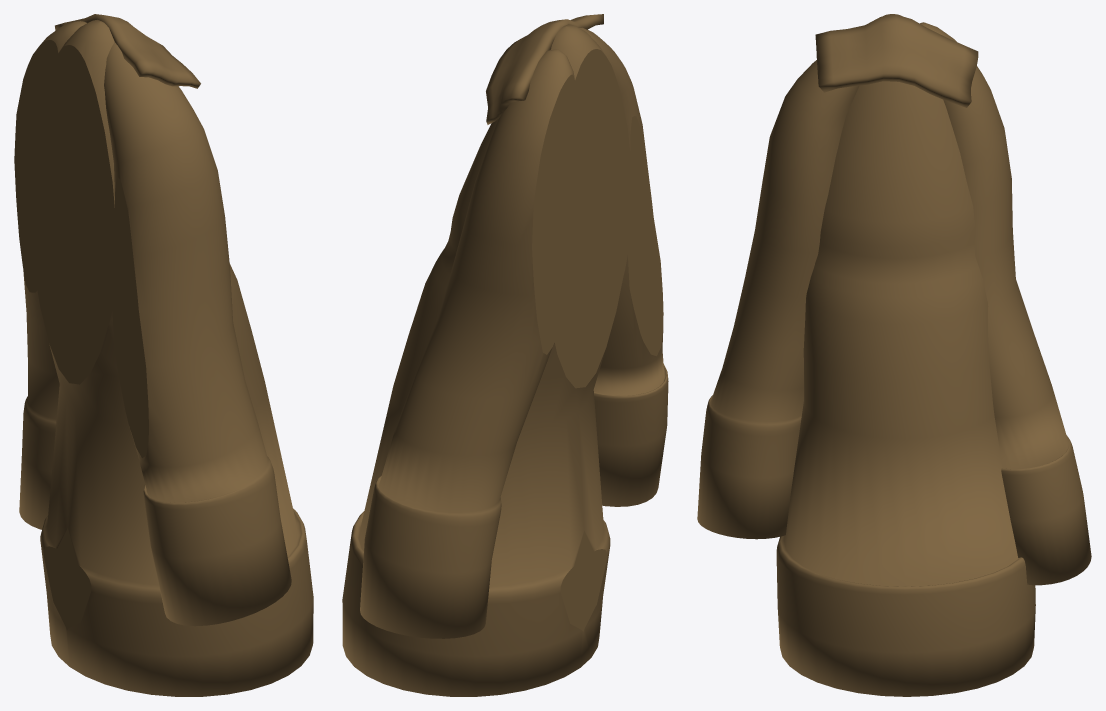
File: Coat Small.fbx
3 views of the same model, side by side, from view 1: azimuth 30°, elevation 25°; view 2: azimuth 150°, elevation 25°; view 3: azimuth 270°, elevation 25° (orthographic). The views are drawn at different scales.
Parts seen in each view (by area): view 1: jacket; view 2: jacket; view 3: jacket.
Part boxes in pixels (x1,y1,x2,y2): jacket: (14, 14, 313, 696); jacket: (342, 14, 668, 696); jacket: (697, 14, 1091, 696).
Bounding box in the file's own units: 140 × 382 × 229.
